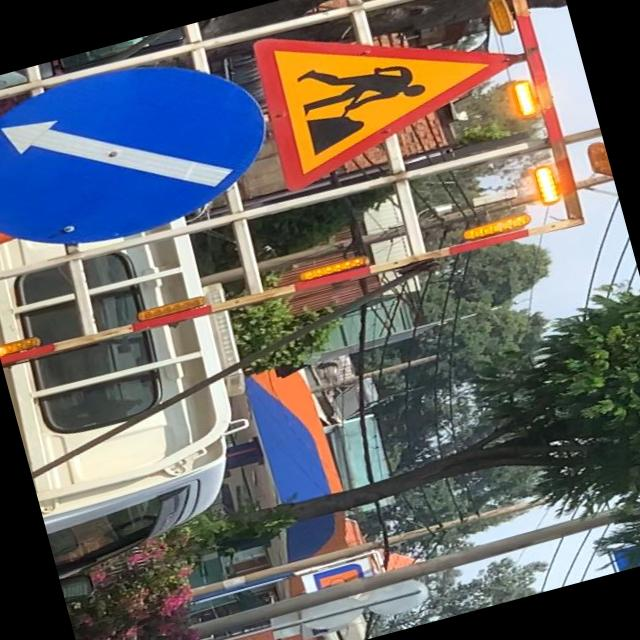R-302b: (0, 33, 284, 275)
